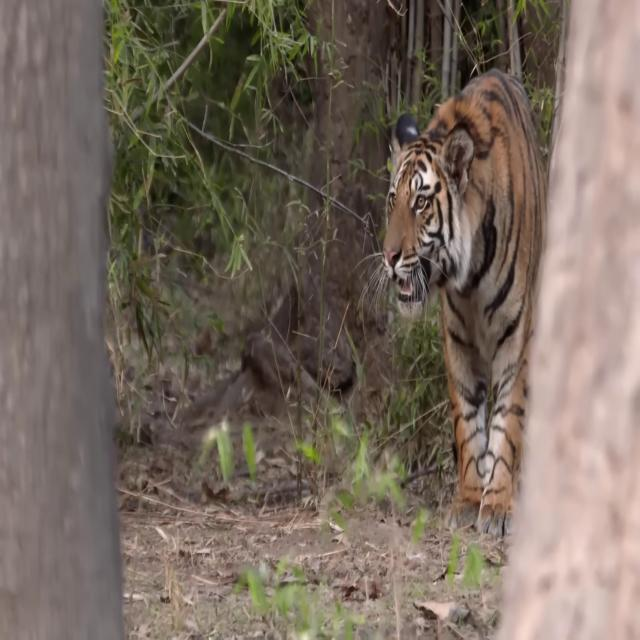tiger: (381, 65, 548, 540)
